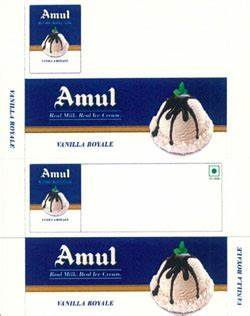VEG: (208, 164, 220, 178)
